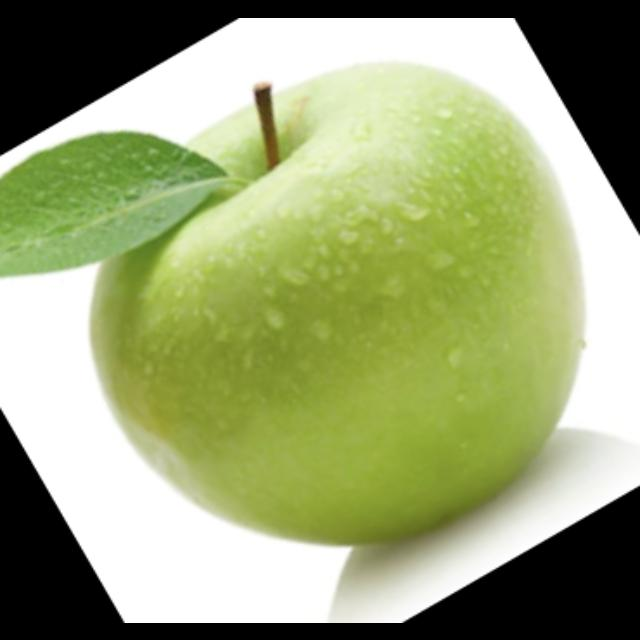Apel Segar: (80, 56, 594, 554)
